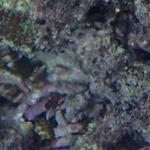dead: (1, 1, 146, 146)
